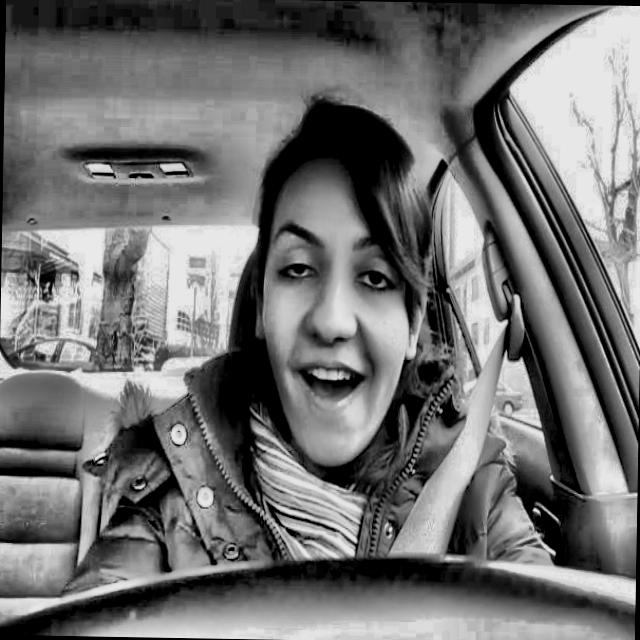open_eyes: (266, 246, 330, 297), (348, 249, 404, 304)
open_mouth: (279, 347, 379, 419)
